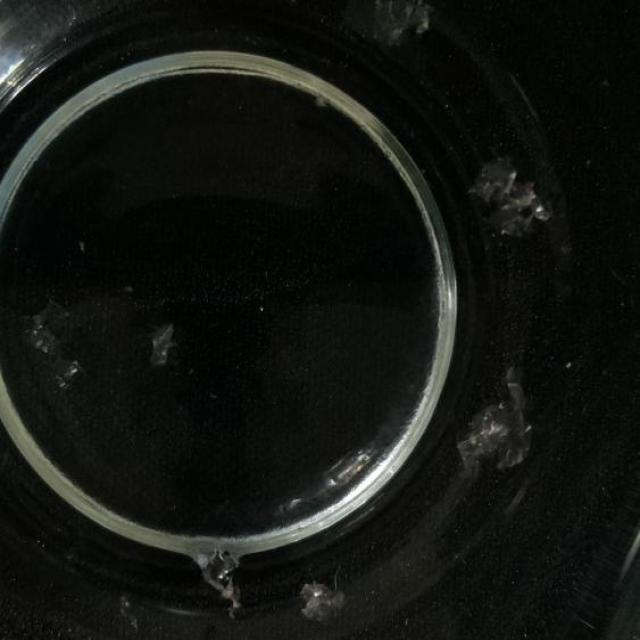fiber: (452, 367, 534, 490), (470, 148, 557, 245), (177, 536, 253, 620), (22, 309, 85, 390), (367, 0, 432, 45), (298, 575, 346, 631), (145, 320, 172, 372)
